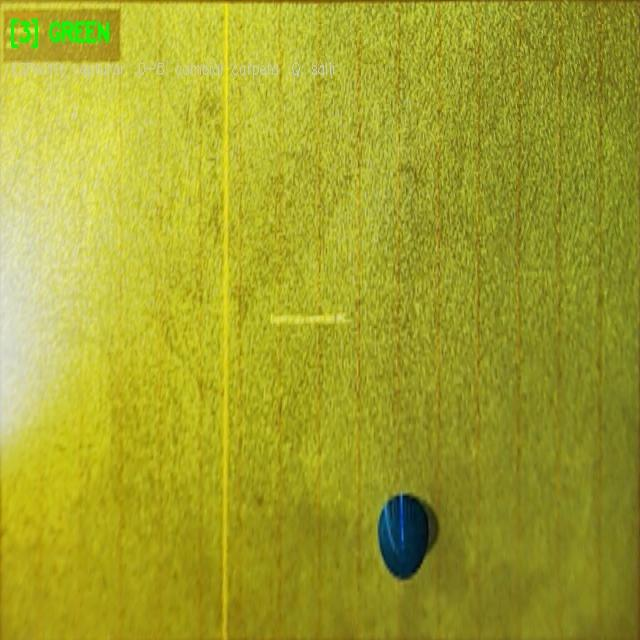green: (377, 495, 428, 577)
